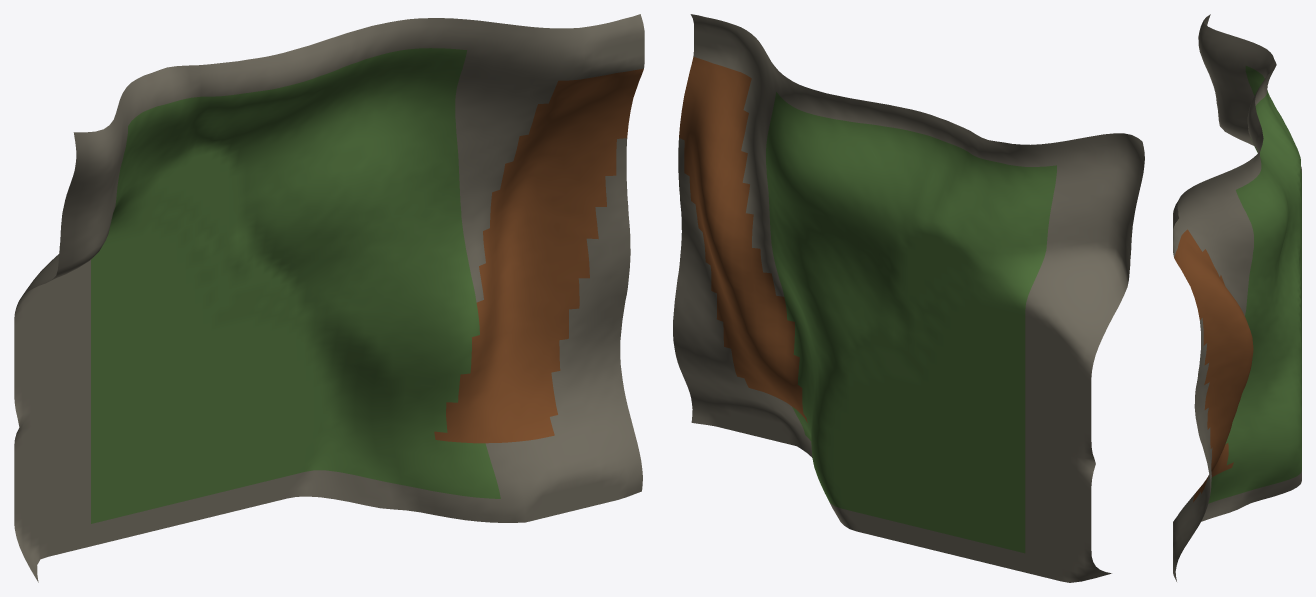
The model's file is terrain_apron.obj.
The picture shows the model from 3 angles, left to right: view 1: azimuth 30°, elevation 25°; view 2: azimuth 150°, elevation 25°; view 3: azimuth 270°, elevation 25°; orthographic projection. The views are drawn at different scales.
Size of the model in its own units: 18 by 15 by 4.8.
